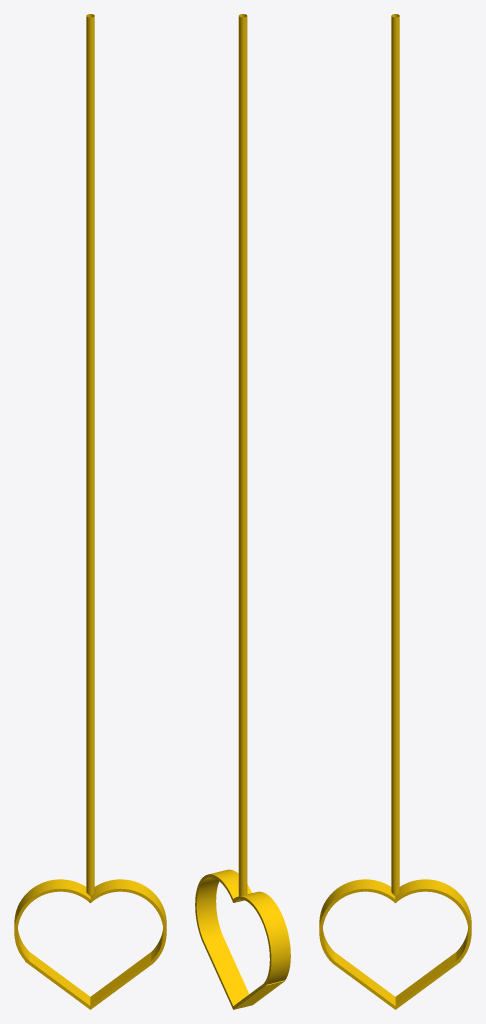
Rendered from cutter2_heart.fbx.
3 renders of one model, left to right at view 1: azimuth 90°, elevation 25°; view 2: azimuth 210°, elevation 25°; view 3: azimuth 270°, elevation 25°, orthographic.
Visible parts, largest first — view 1: Cutter2_Heart; view 2: Cutter2_Heart; view 3: Cutter2_Heart.
Part boxes in pixels (box(x1,y1,x2,y2)): Cutter2_Heart: box(14, 14, 166, 1009); Cutter2_Heart: box(195, 14, 290, 1009); Cutter2_Heart: box(319, 14, 471, 1009).
Size of the model in its own units: 16.8 by 820 by 114.
